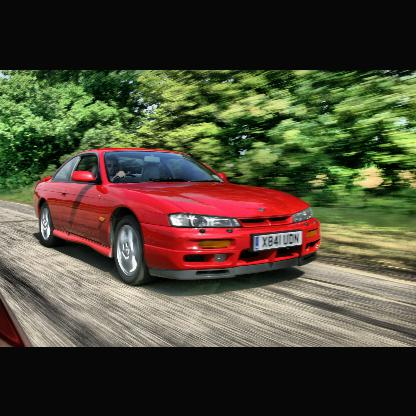Nissan 240SX Coupe 1998: (29, 146, 324, 291)
